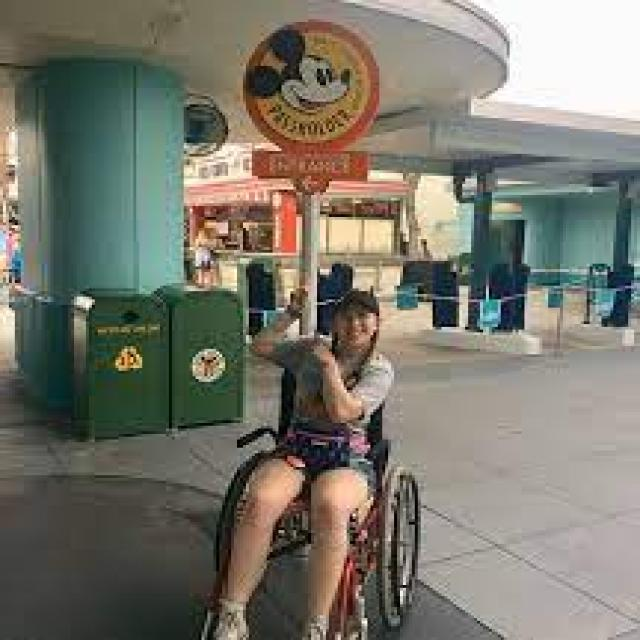wheelchairs: (170, 286, 471, 640)
